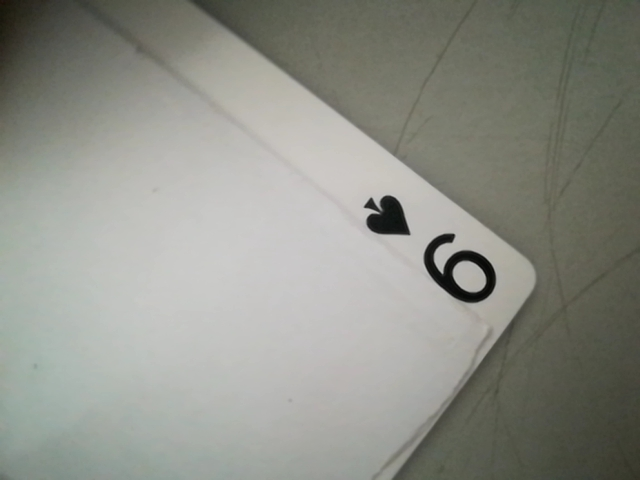ht 9: (345, 189, 519, 316)
